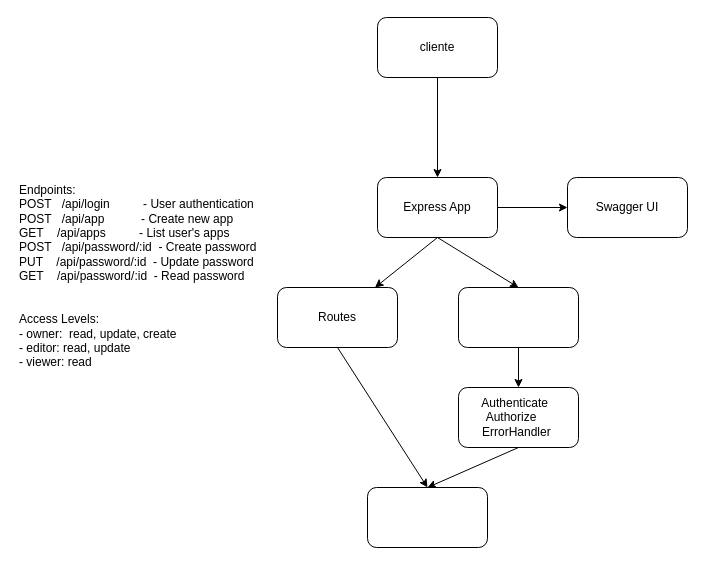
This 705x565 diagram has some shape labels left out. Here are the shapes that lost their labels. From the top down, the centre of each, then its label:
At point (518, 317): "Middleware".
At point (427, 517): "FakeDataBase In-memory data".
